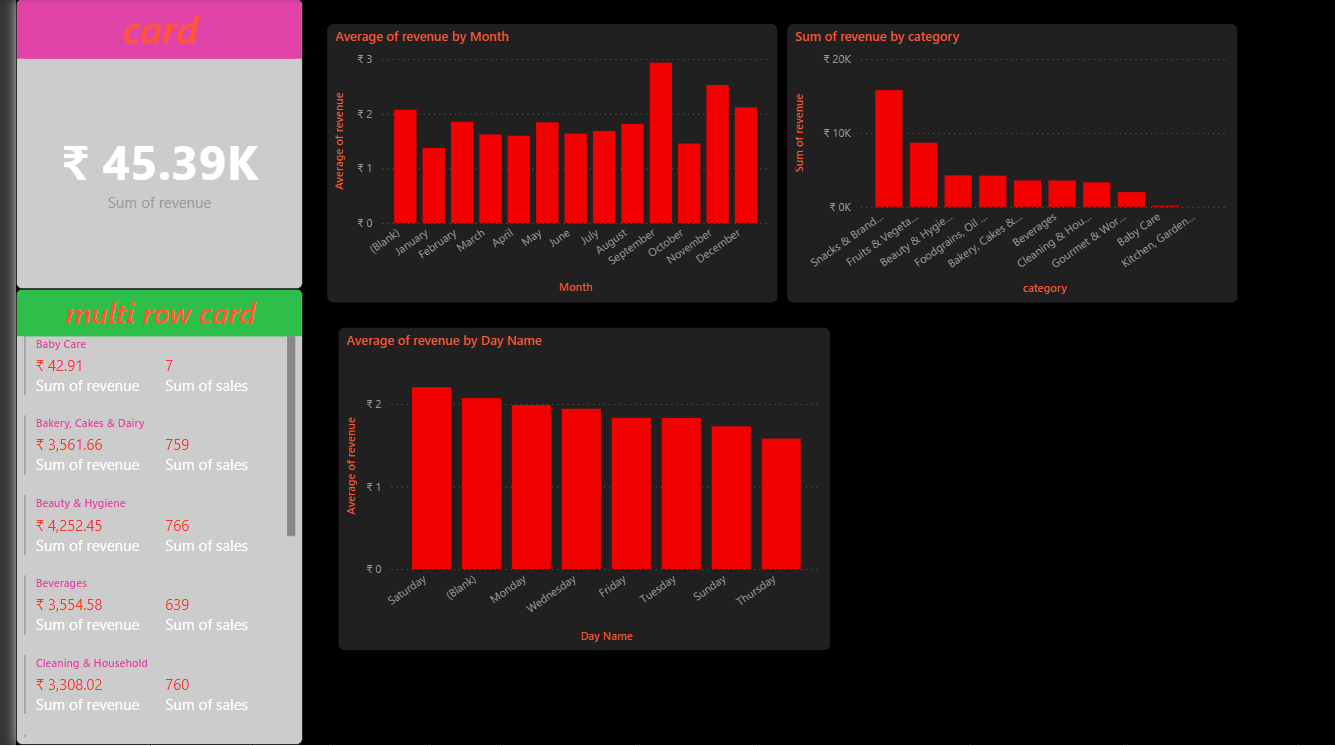

The page's visual inventory and layout, read from the dashboard file:
{"tool":"powerbi","page":{"name":"card","canvas":[1280,720],"ordinal":6},"visuals":[{"type":"card","title":"card","fields":{"Values":["Sum(sales2018.revenue)"]},"box":[0,0,277.1,280],"z":0},{"type":"multiRowCard","title":"multi row card","fields":{"Values":["producthierarchy.category","Sum(sales2018.revenue)","Sum(sales2018.sales)"]},"box":[0,280,277.1,440],"z":1000},{"type":"columnChart","fields":{"Category":["sales2018.order_date.Variation.Date Hierarchy.Year","sales2018.order_date.Variation.Date Hierarchy.Month","sales2018.order_date.Variation.Date Hierarchy.Day"],"Y":["Avg(sales2018.revenue)"]},"box":[300,24.3,434.3,268.6],"z":2000},{"type":"columnChart","fields":{"Y":["Avg(sales2018.revenue)"],"Category":["sales2018_dupli.Day Name"]},"box":[311.4,317.1,474.3,311.4],"z":3000},{"type":"columnChart","fields":{"Category":["producthierarchy.category"],"Y":["Sum(sales2018.revenue)"]},"box":[744,24,434,269],"z":4000}]}

Visuals, with their boxes in screenshot pixels (x1, y1, x2, y2), scaled from the page's 1280x720 canvas onto the 1335x746 screenshot:
"card" card: (0, 0, 289, 290)
"multi row card" multiRowCard: (0, 290, 289, 745)
columnChart - sales2018.order_date.Variation.Date Hierarchy.Year x sales2018.order_date.Variation.Date Hierarchy.Month: (313, 25, 766, 303)
columnChart - Avg(sales2018.revenue) x sales2018_dupli.Day Name: (325, 329, 819, 651)
columnChart - producthierarchy.category x Sum(sales2018.revenue): (776, 25, 1229, 304)
